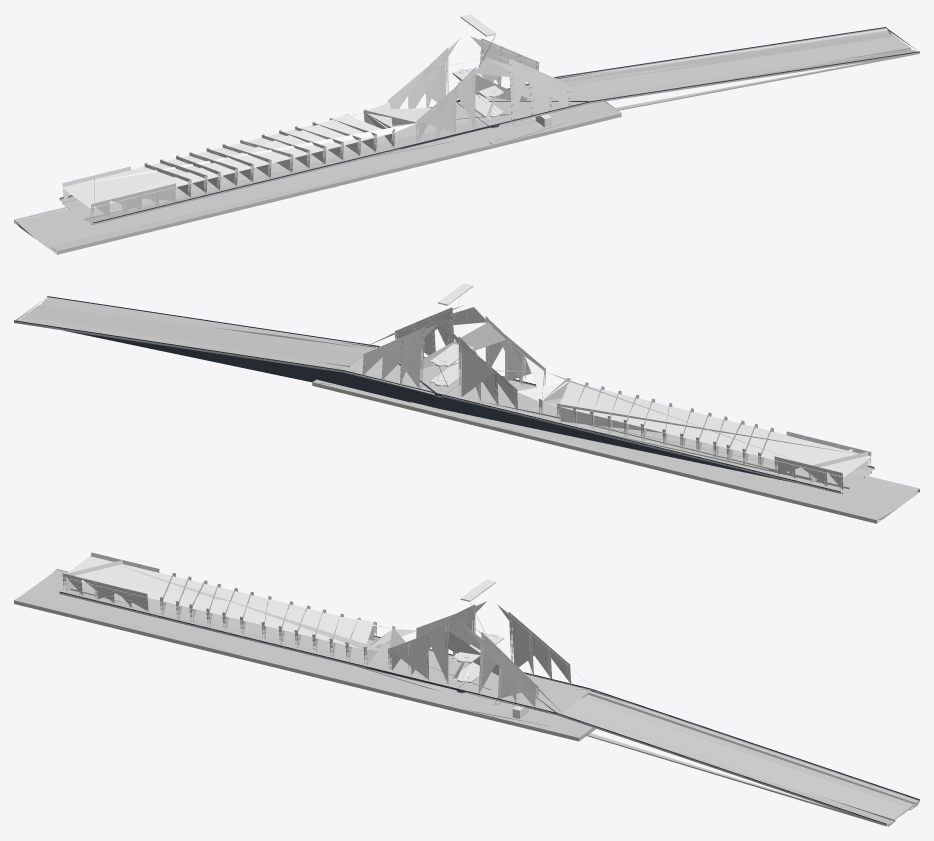
File: street_island1_00.glb
3 views of the same model, one above another, from view 1: azimuth 30°, elevation 25°; view 2: azimuth 150°, elevation 25°; view 3: azimuth 330°, elevation 25° (orthographic).
Parts seen in each view (by area): view 1: seg_1186, seg_605, seg_604, seg_1306, seg_1184; view 2: seg_1186, seg_605, seg_604, seg_1306, seg_1184; view 3: seg_605, seg_1186, seg_604, seg_1306, seg_1184.
Part boxes in pixels (box(x1,y1,x2,y2)): seg_1186: box(61, 36, 596, 221); seg_605: box(59, 27, 919, 225); seg_604: box(14, 101, 621, 254); seg_1306: box(59, 27, 919, 223); seg_1184: box(452, 14, 503, 117); seg_1186: box(337, 305, 872, 490); seg_605: box(14, 297, 874, 494); seg_604: box(312, 379, 919, 523); seg_1306: box(14, 296, 874, 492); seg_1184: box(430, 283, 476, 386); seg_605: box(59, 582, 919, 826); seg_1186: box(61, 552, 599, 718); seg_604: box(14, 568, 595, 741); seg_1306: box(59, 591, 919, 824); seg_1184: box(452, 579, 503, 682).
Size of the model in its own units: 609 by 82.14 by 52.48.
